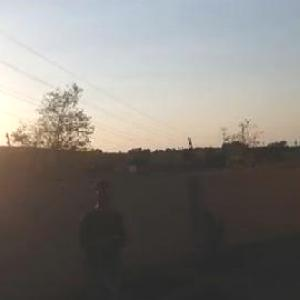follow: (78, 177, 139, 299)
